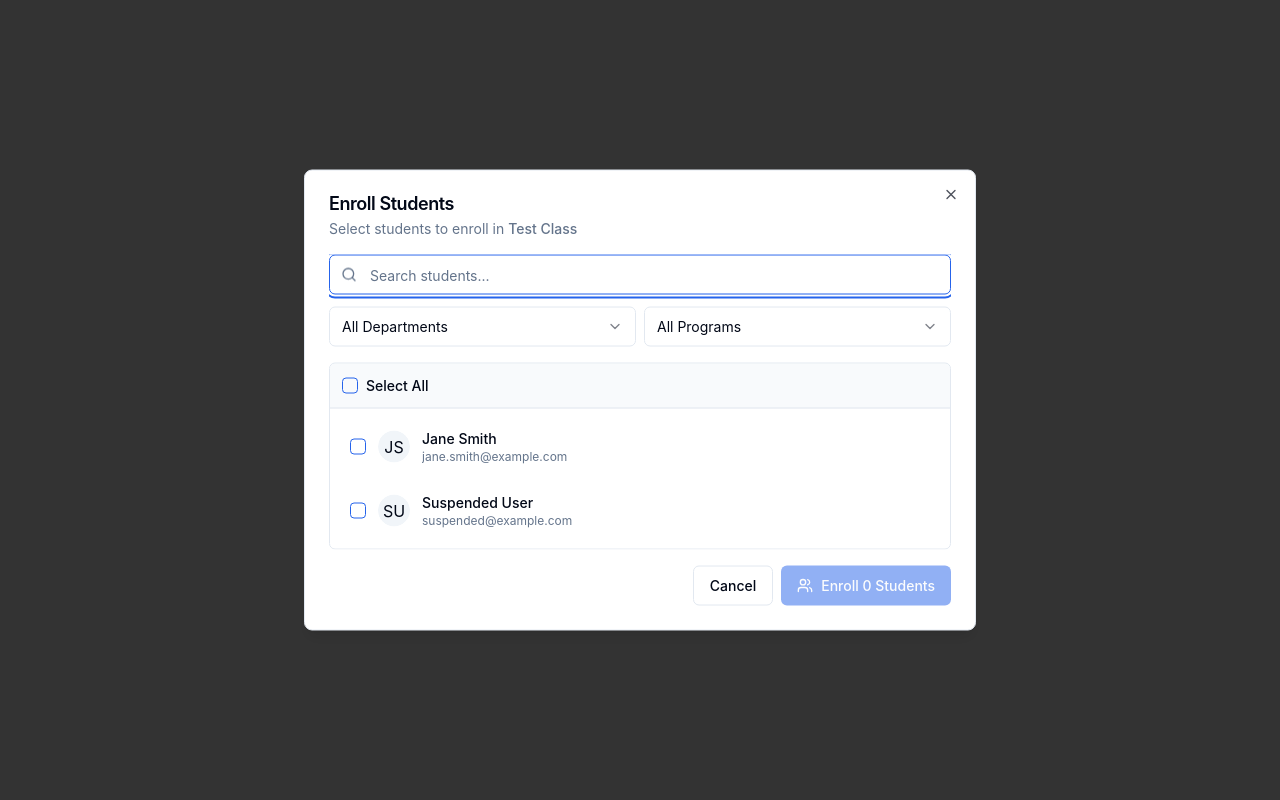
Test: EnrollStudentsDialog › displays loading state while enrolling
This screenshot has width=1280, height=800.
Expected: the text "Jane Smith" is shown, [422,430,497,446]
Click the checkbox named "Select all": [350, 386] box [342,378,358,394]
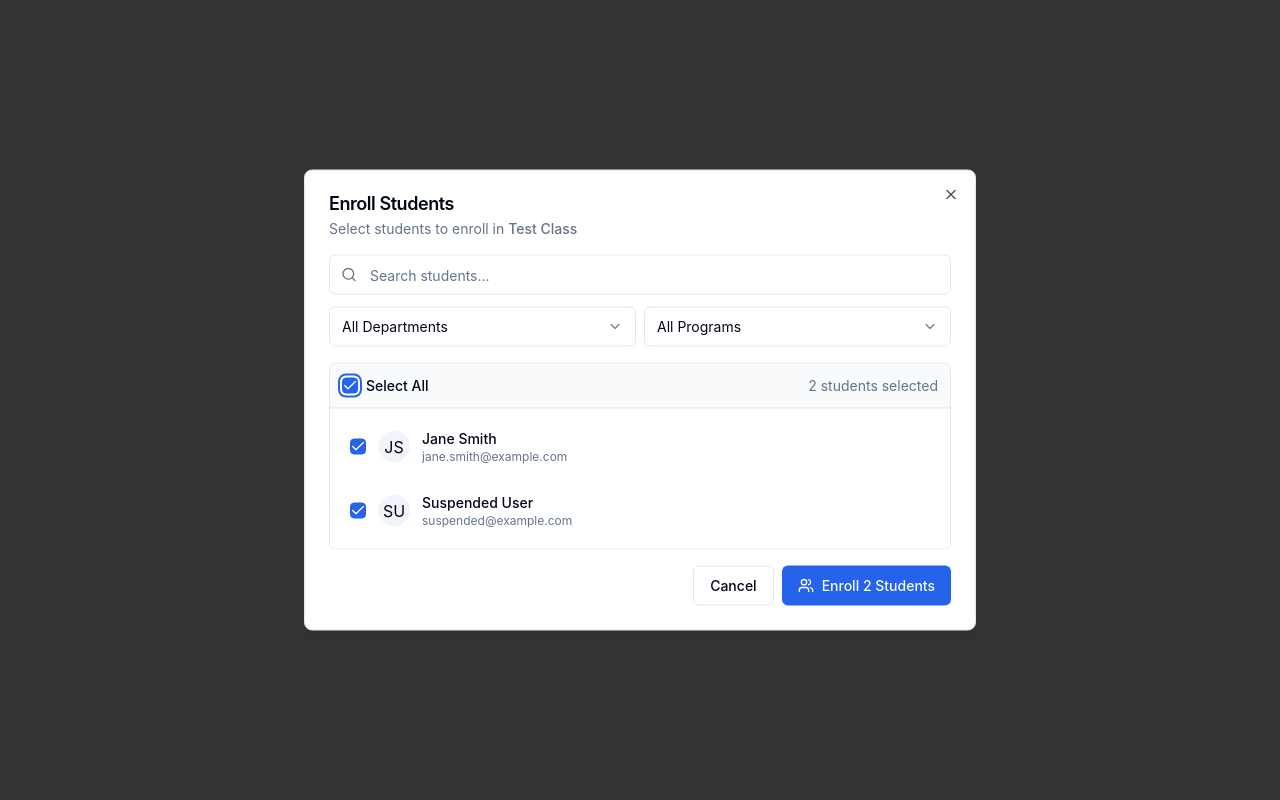
Click the button "Enroll 2 Students": [866, 586] box [782,566,951,606]
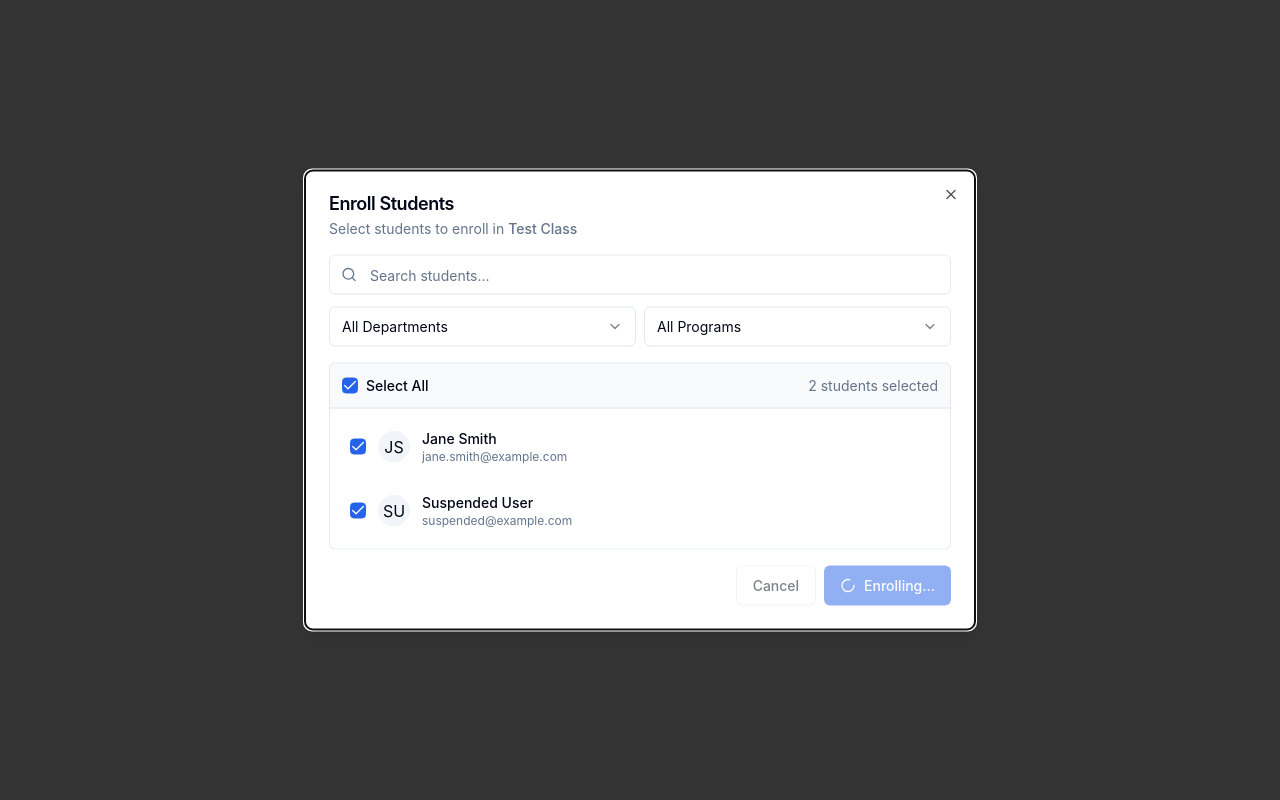
Expected: the button "Enrolling..." is shown, [824,566,951,606]
